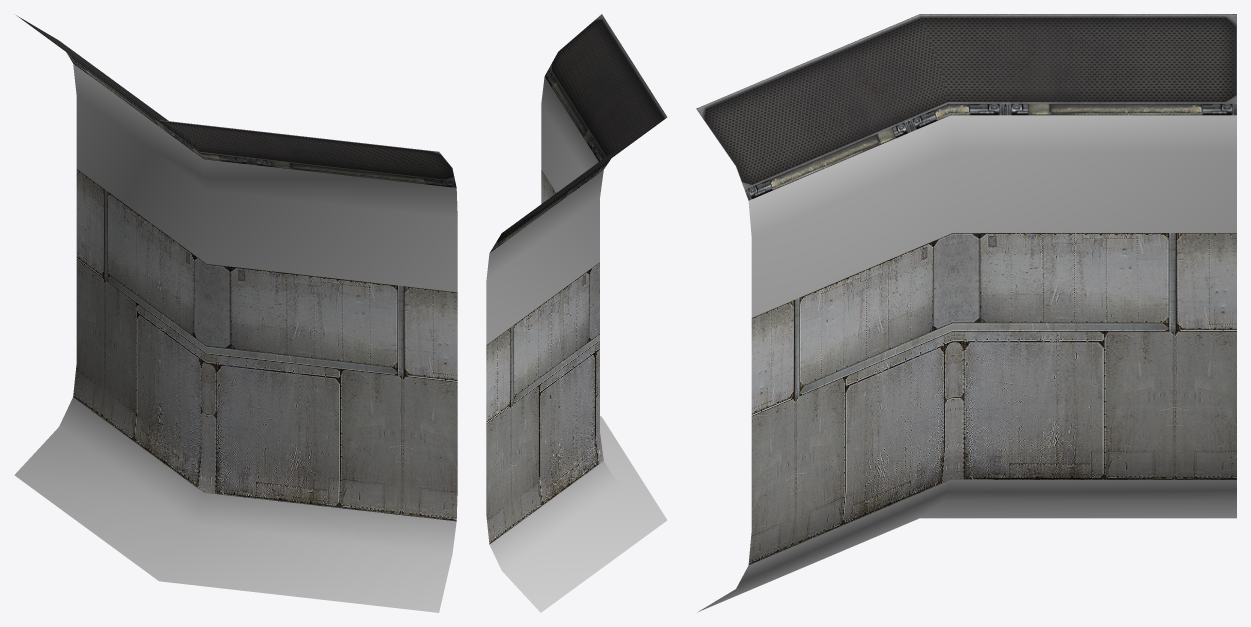
Rendered from Wall_L_Mid4mts_14.fbx.
3 renders of one model, left to right at view 1: azimuth 30°, elevation 25°; view 2: azimuth 150°, elevation 25°; view 3: azimuth 270°, elevation 25°, orthographic. The views are drawn at different scales.
Visible parts, largest first — view 1: Wall_L_Mid4mts_14; view 2: Wall_L_Mid4mts_14; view 3: Wall_L_Mid4mts_14.
Part boxes in pixels (x1,y1,x2,y2): Wall_L_Mid4mts_14: (14,15,457,612); Wall_L_Mid4mts_14: (486,14,667,612); Wall_L_Mid4mts_14: (696,14,1236,612).
Size of the model in its own units: 201 by 400 by 389.
